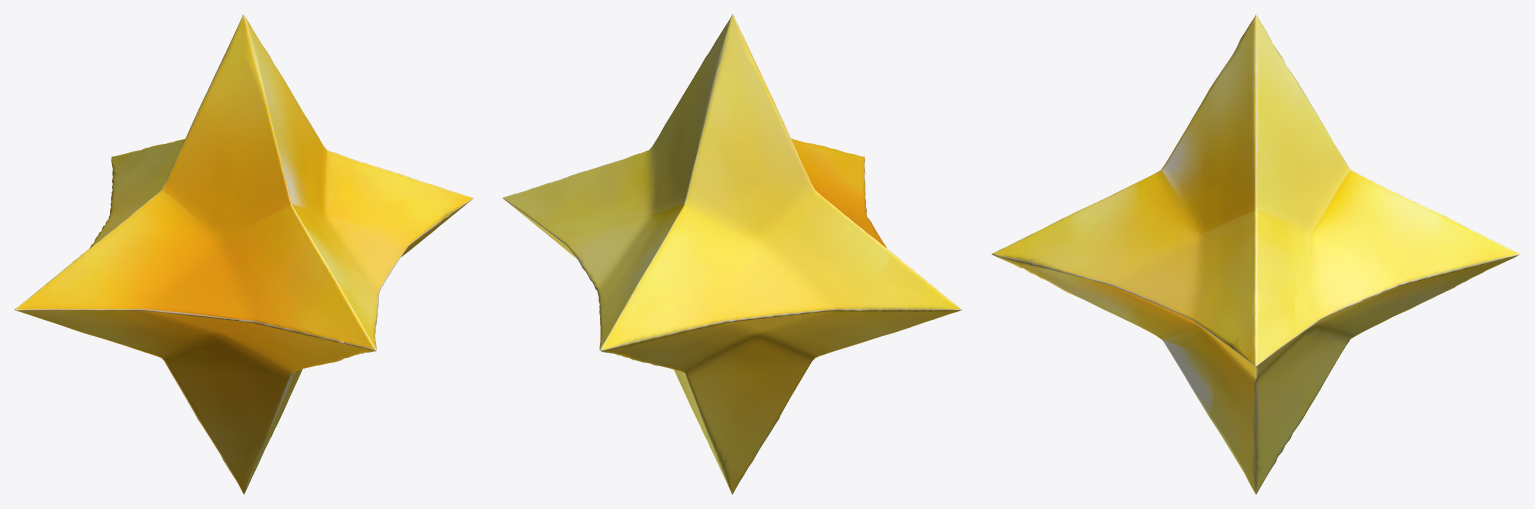
Rendered from gold_star.glb.
The picture shows the model from 3 angles, left to right: view 1: azimuth 30°, elevation 25°; view 2: azimuth 150°, elevation 25°; view 3: azimuth 270°, elevation 25°; orthographic projection.
Visible parts, largest first — view 1: tripo_node_feb31e42; view 2: tripo_node_feb31e42; view 3: tripo_node_feb31e42.
Part boxes in pixels (left/top/right/bottom): tripo_node_feb31e42: left=14, top=14, right=473, bottom=494; tripo_node_feb31e42: left=502, top=14, right=962, bottom=494; tripo_node_feb31e42: left=991, top=14, right=1520, bottom=494.
Bounding box in the file's own units: 99.69 × 99.67 × 99.55.
Materials: 1 (1 with a texture image).
